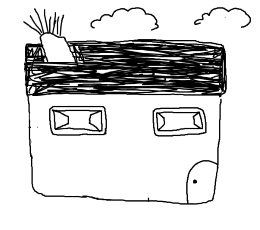clouds: (89, 6, 159, 33), (193, 6, 252, 29)
door: (181, 155, 222, 211)
open_window: (48, 106, 107, 136), (152, 107, 207, 138)
shaded_roof: (19, 39, 229, 100)
smoking_chimney: (23, 5, 77, 64)
wall: (25, 89, 226, 208)
